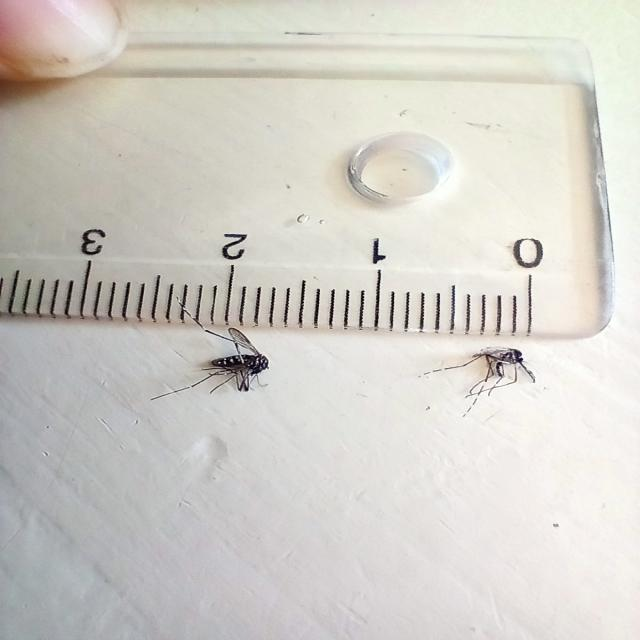albopictus: (150, 318, 280, 404)
